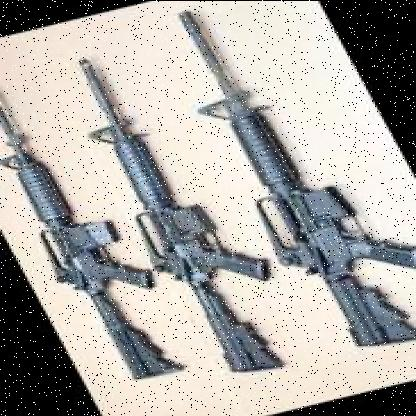rifle: (152, 0, 416, 363), (48, 38, 318, 384), (0, 63, 209, 395)
